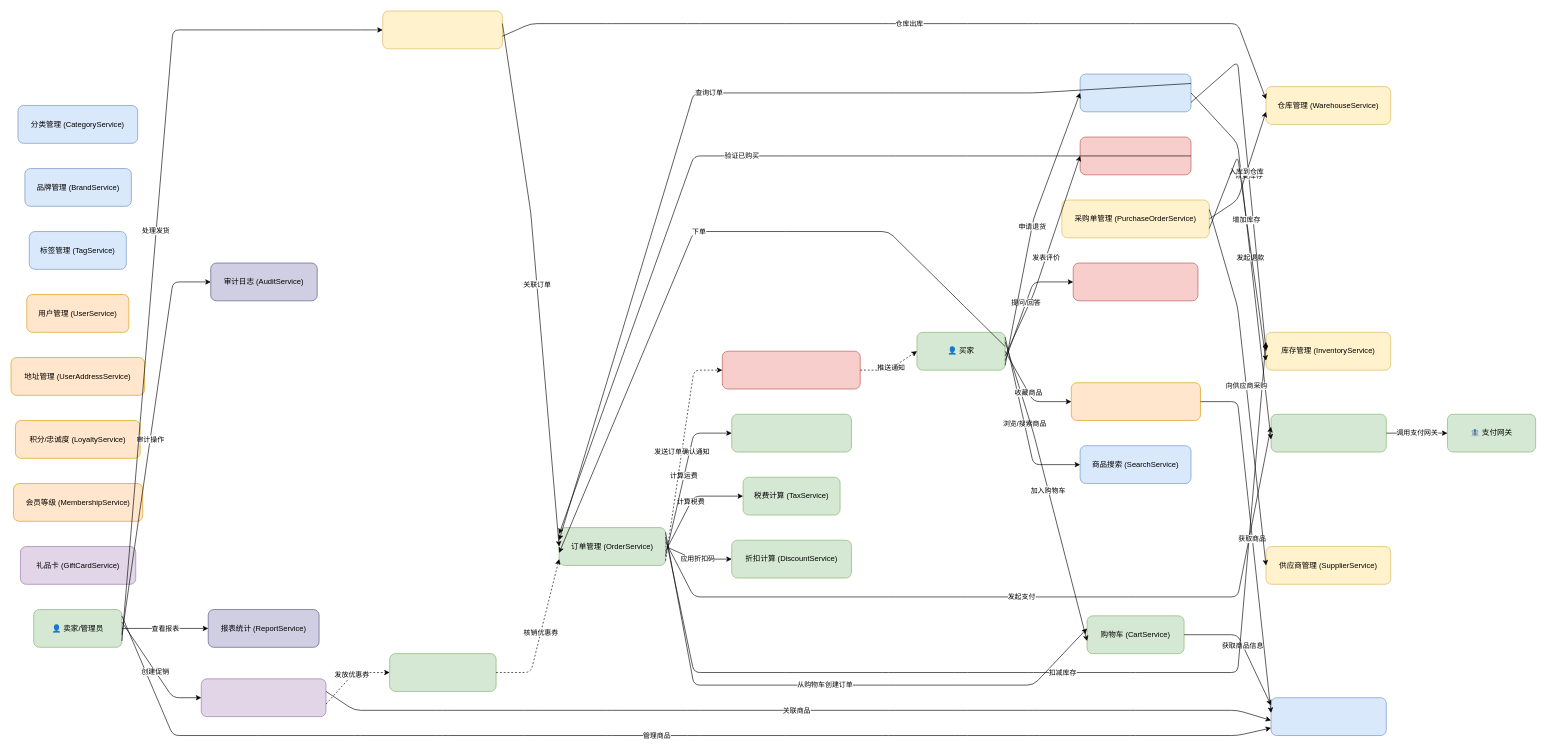
The diagram is 1547 pixels wide and 752 high, and some of its shapes have lost their labels. Each missing label, with the box of its shape:
优惠券 (CouponService): (389, 653, 496, 691)
促销活动 (PromotionService): (201, 678, 326, 717)
发货管理 (ShipmentService): (382, 10, 502, 49)
商品管理 (ProductService): (1270, 697, 1386, 736)
商品评价 (ReviewService): (1080, 136, 1191, 175)
商品问答 (ProductQAService): (1073, 262, 1198, 301)
支付处理 (PaymentService): (1270, 414, 1386, 452)
收藏/心愿单 (WishlistService): (1071, 382, 1200, 421)
消息通知 (NotificationService): (722, 351, 860, 389)
运费计算 (ShippingService): (731, 414, 851, 452)
退货退款 (ReturnService): (1080, 73, 1191, 112)
